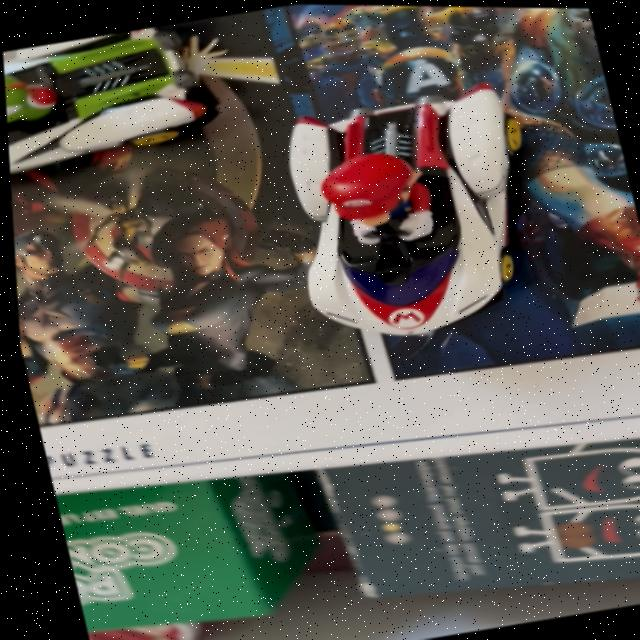mario: (260, 68, 566, 358)
yoshi: (0, 6, 294, 207)
